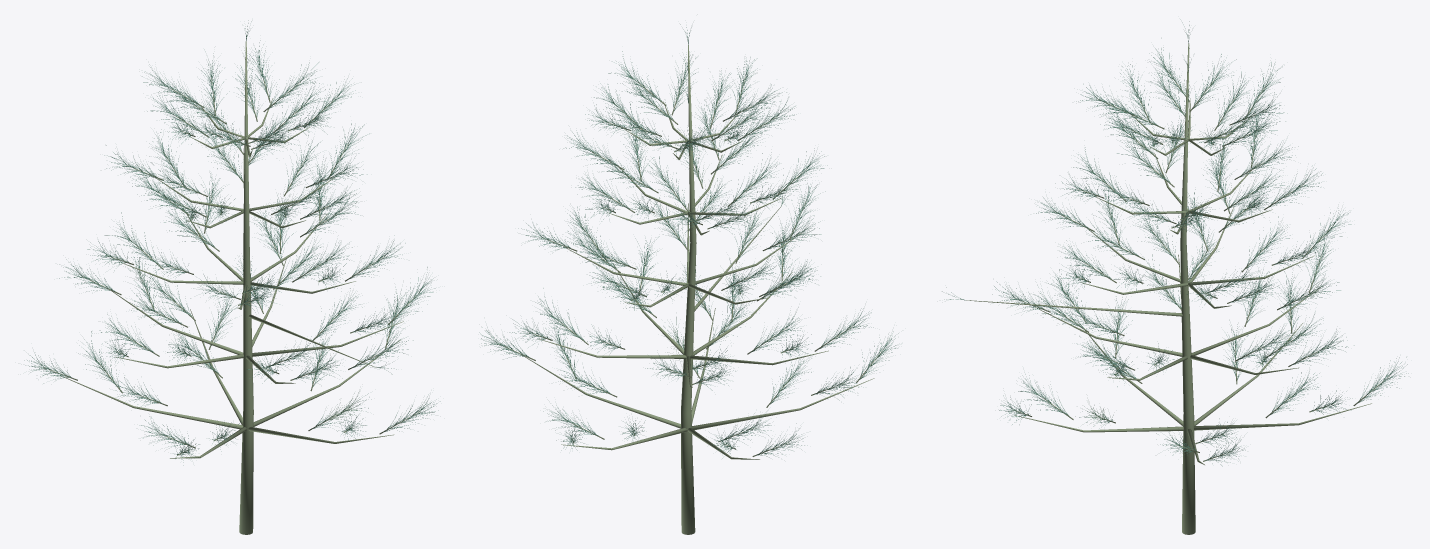
File: eastern_white_pine_young_hybrid.glb
3 renders of one model, left to right at view 1: azimuth 30°, elevation 25°; view 2: azimuth 150°, elevation 25°; view 3: azimuth 270°, elevation 25°, orthographic.
Visible parts, largest first — view 1: PineFoliage, YoungPineBranches; view 2: PineFoliage, YoungPineBranches; view 3: PineFoliage, YoungPineBranches.
Boxes of the visible parts, x1=… form: PineFoliage: x1=24, y1=20, x2=440, y2=465; YoungPineBranches: x1=43, y1=41, x2=420, y2=534; PineFoliage: x1=479, y1=24, x2=898, y2=458; YoungPineBranches: x1=498, y1=45, x2=883, y2=534; PineFoliage: x1=992, y1=19, x2=1408, y2=466; YoungPineBranches: x1=966, y1=43, x2=1389, y2=534.
Bounding box in the file's own units: 1.57 × 2.15 × 1.81.
